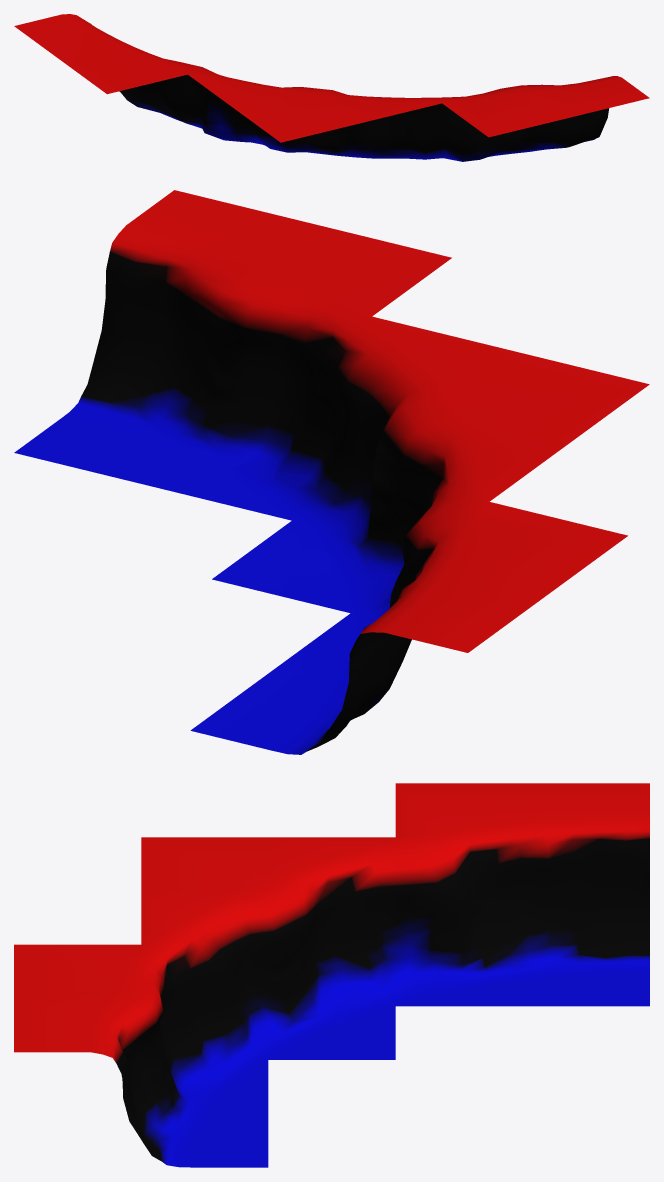
File: RiveCliff05B Background.fbx
3 views of the same model, one above another, from view 1: azimuth 30°, elevation 25°; view 2: azimuth 150°, elevation 25°; view 3: azimuth 270°, elevation 25° (orthographic). The views are drawn at different scales.
Parts seen in each view (by area): view 1: RiveCliff05B Background; view 2: RiveCliff05B Background; view 3: RiveCliff05B Background.
Part boxes in pixels (x1=…): RiveCliff05B Background: x1=14, y1=14, x2=649, y2=161; RiveCliff05B Background: x1=14, y1=190, x2=649, y2=754; RiveCliff05B Background: x1=14, y1=783, x2=649, y2=1167.
Bounding box in the file's own units: 5 × 1 × 5.
